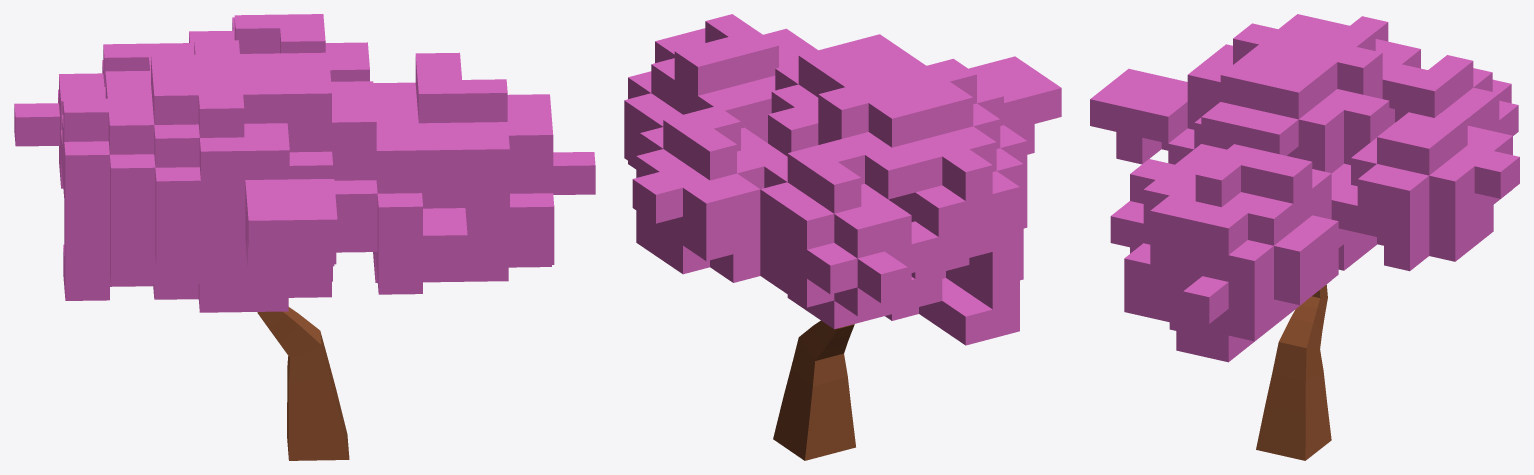
Rendered from sakura 4.fbx.
3 renders of one model, left to right at view 1: azimuth 30°, elevation 25°; view 2: azimuth 150°, elevation 25°; view 3: azimuth 270°, elevation 25°, orthographic. The views are drawn at different scales.
Parts seen in each view (by area): view 1: Sakura.003; view 2: Sakura.003; view 3: Sakura.003.
Part boxes in pixels (x1,y1,x2,y2): Sakura.003: (14, 14, 595, 460); Sakura.003: (624, 14, 1061, 460); Sakura.003: (1090, 14, 1519, 460).
Size of the model in its own units: 3204 by 2593 by 2816.
